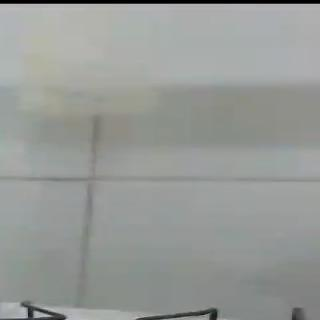fire: (0, 292, 76, 320)
